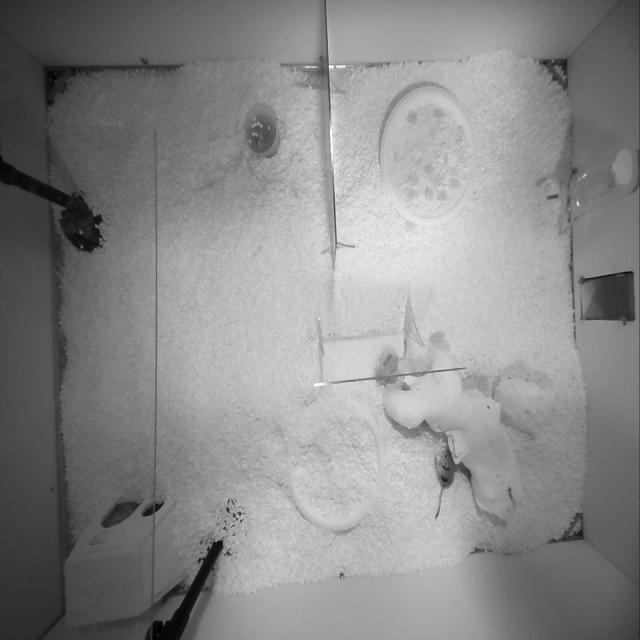pup_spotted: (434, 445, 455, 519)
pup_v_stripe: (374, 340, 406, 385)
